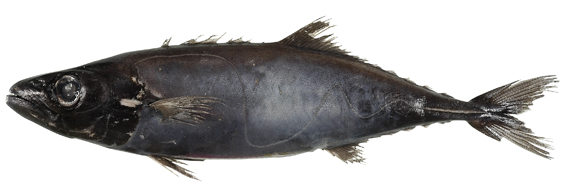fish: (5, 14, 561, 183)
